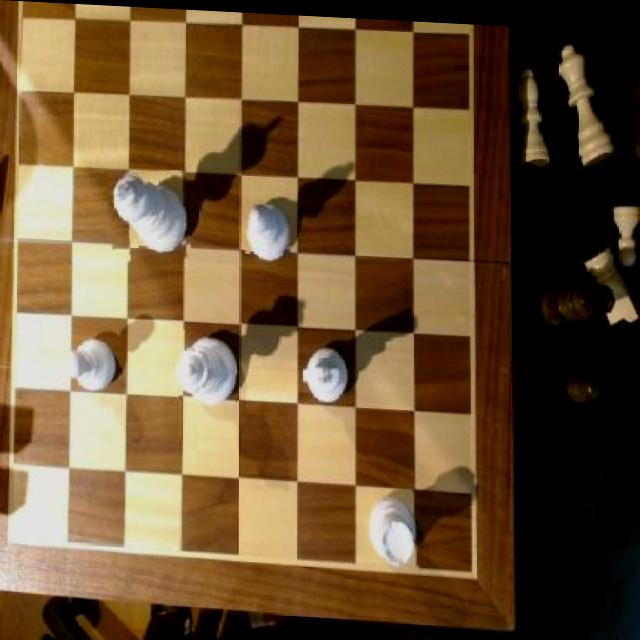black-rook: (242, 194, 291, 263)
white-bishop: (108, 166, 189, 262), (178, 329, 237, 409)
white-king: (362, 484, 420, 568), (299, 343, 348, 406)
white-knight: (65, 332, 118, 401)
